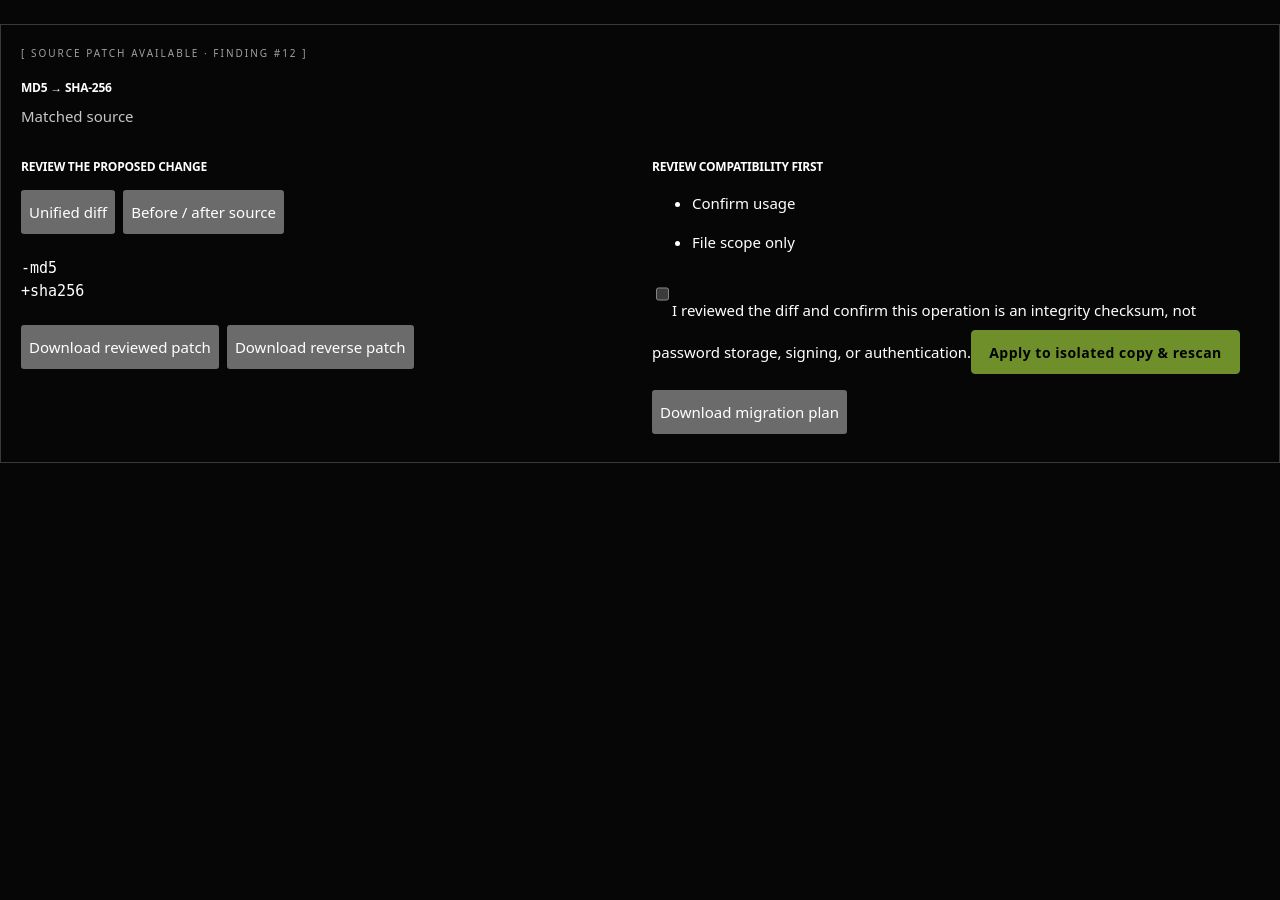
Scenario: finding-specific review › requires reviewed checksum usage and submits the finding fingerprint
Expected: the button "Apply to isolated copy & rescan" is disabled, x1=971 y1=330 x2=1240 y2=374
Click the button "Before / after source".
click(204, 212)  # box x1=123 y1=190 x2=284 y2=234
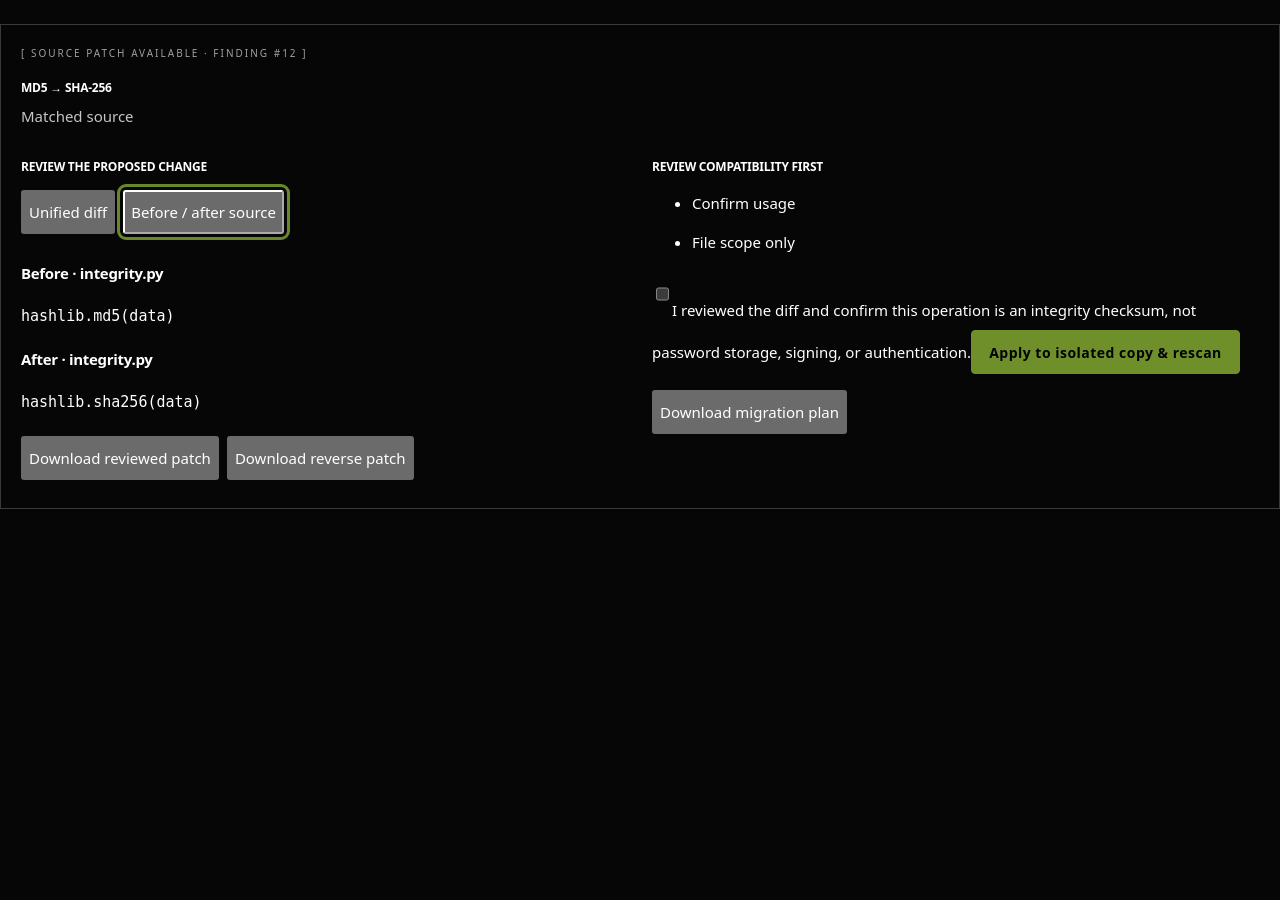
Expected: the text "hashlib.md5(data)" is shown, x1=21 y1=307 x2=174 y2=325
Click the checkbox.
click(662, 294)  # box x1=656 y1=272 x2=669 y2=316
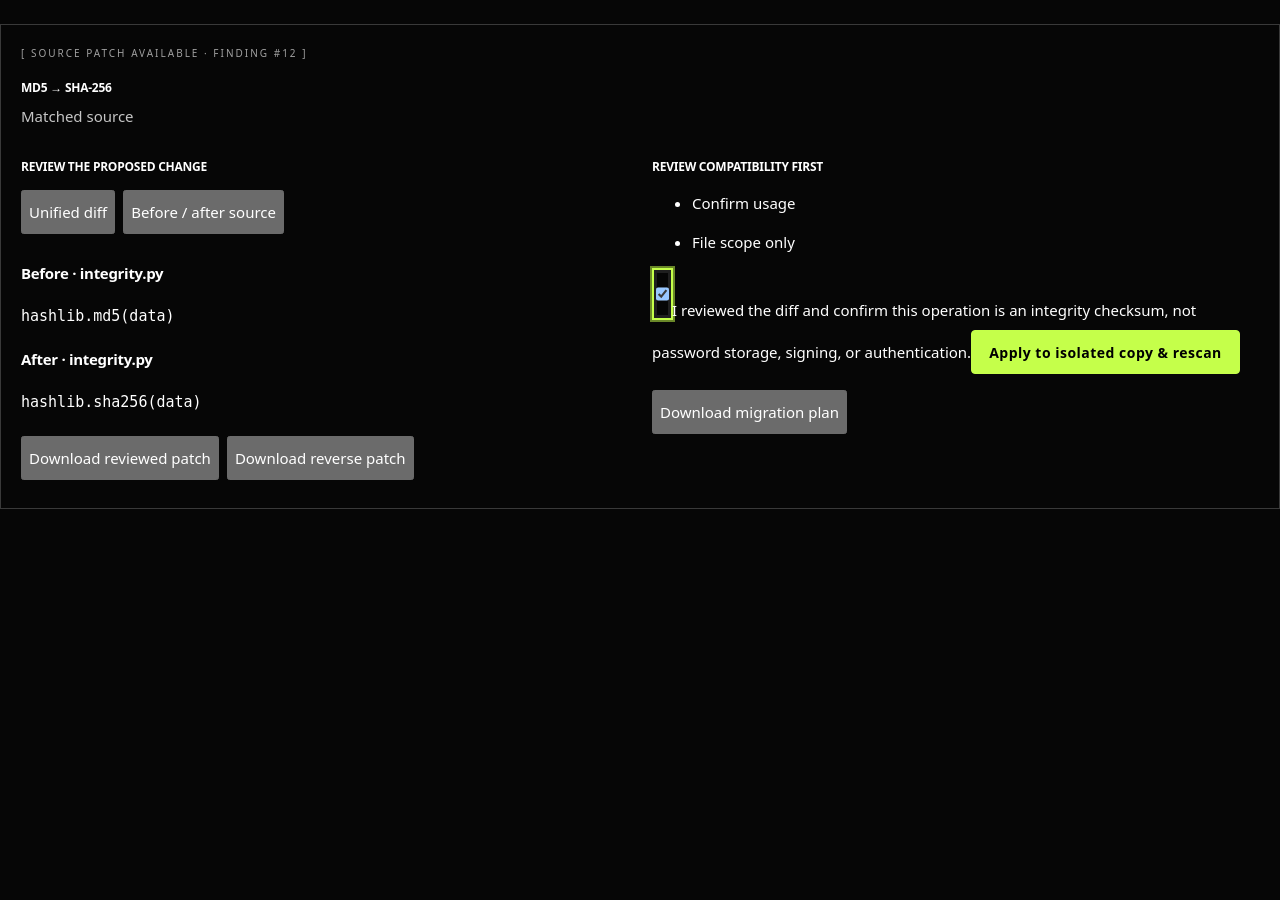
Click the button "Apply to isolated copy & rescan".
click(1106, 352)  # box x1=971 y1=330 x2=1240 y2=374
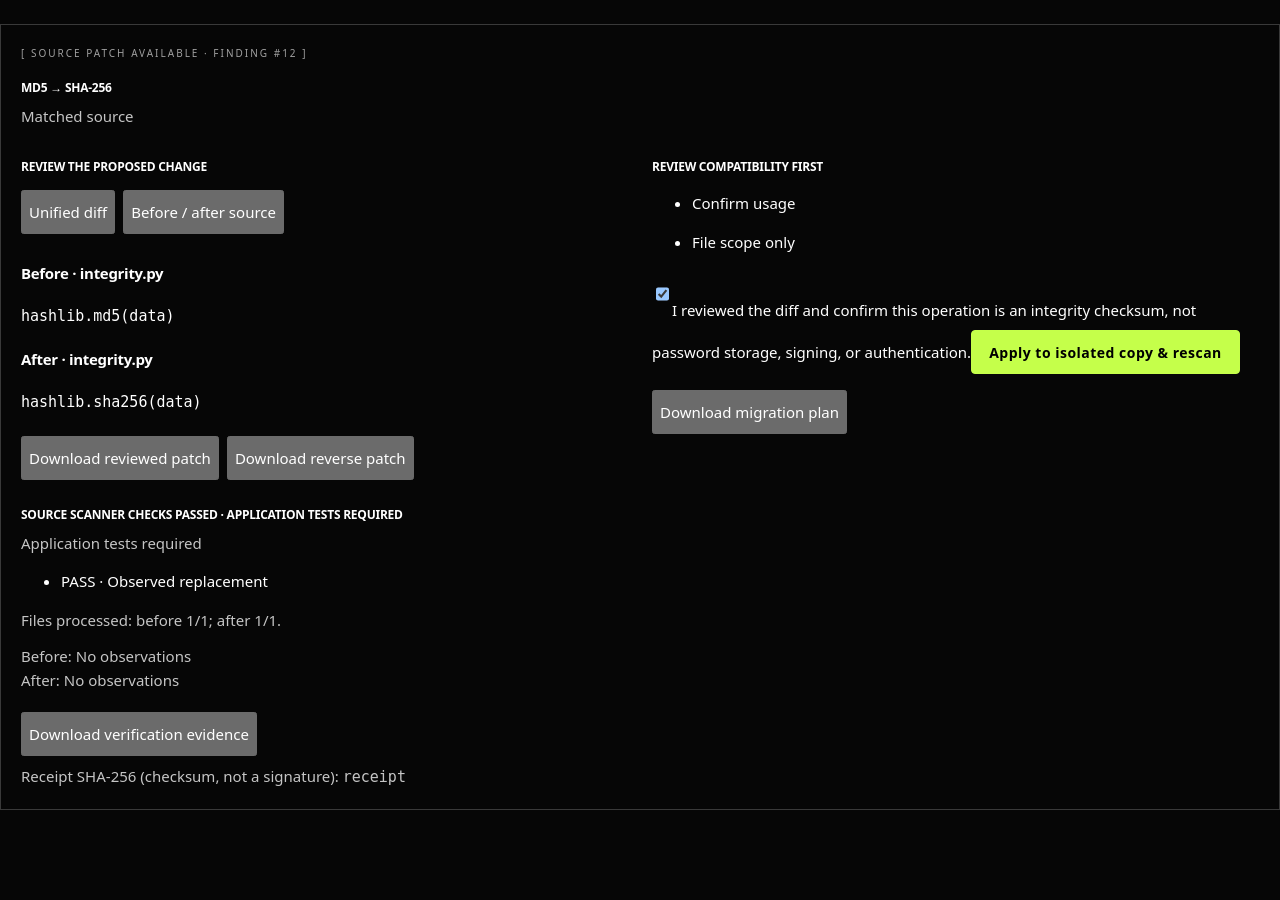
Expected: the heading "Source scanner checks passed · application tests required" is shown, x1=21 y1=506 x2=403 y2=523
